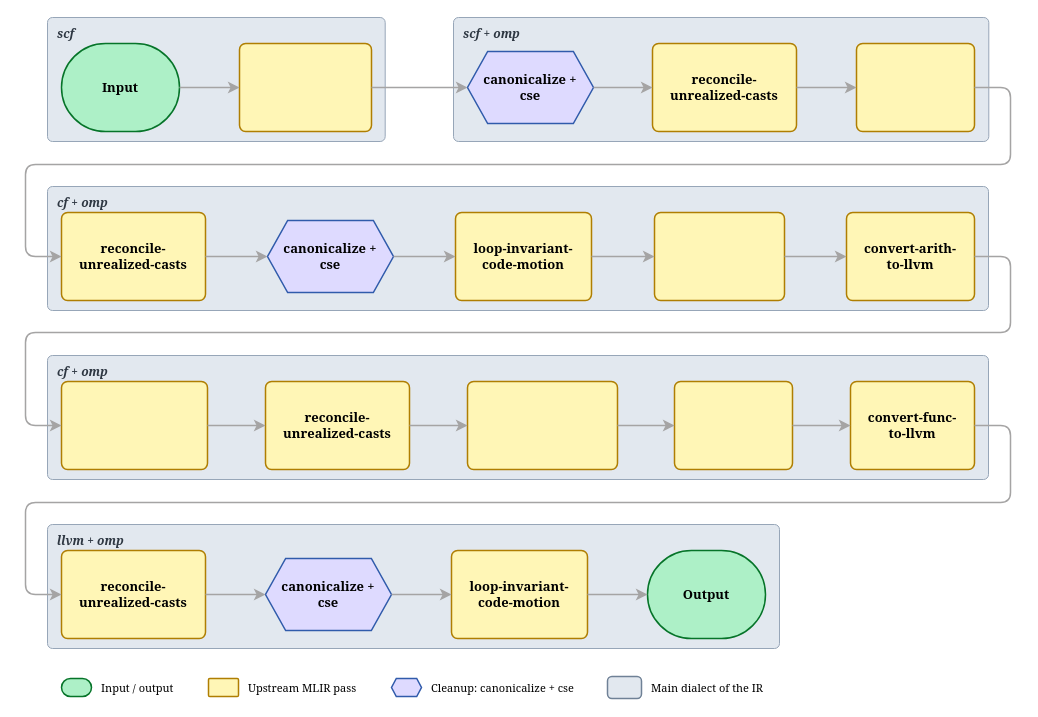
This 1038x717 diagram has some shape labels left out. Each missing label, with the box of its shape:
convert-cf- to-llvm: (673, 380, 793, 470)
convert-math- to-llvm: (653, 211, 785, 301)
convert-openmp- to-llvm: (466, 380, 618, 470)
convert-scf- to-cf: (855, 42, 975, 132)
convert-scf-to- openmp: (238, 42, 372, 132)
finalize-memref- to-llvm: (60, 380, 208, 470)
